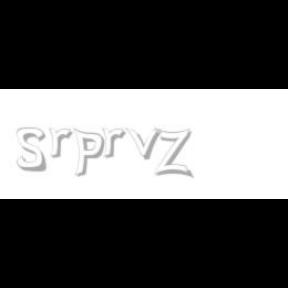P: (73, 128, 105, 178)
S: (16, 128, 48, 172)
Z: (154, 128, 192, 178)
r: (48, 128, 76, 158), (102, 128, 128, 158)
v: (125, 128, 165, 160)
